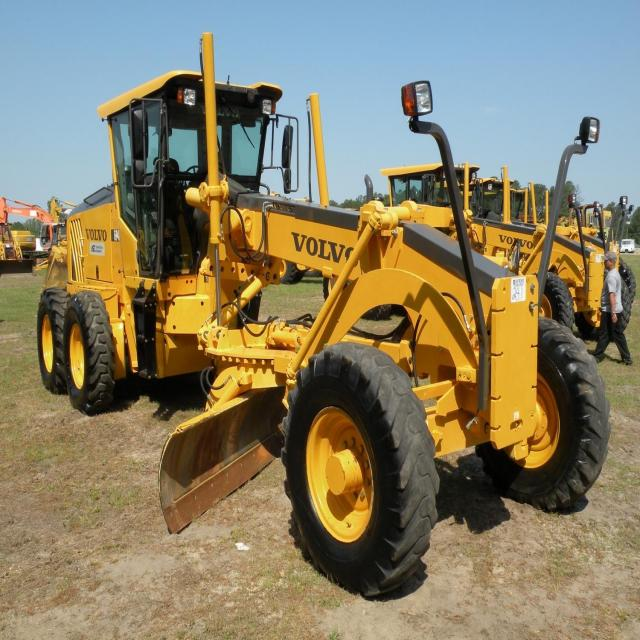Grader: (35, 35, 618, 605)
